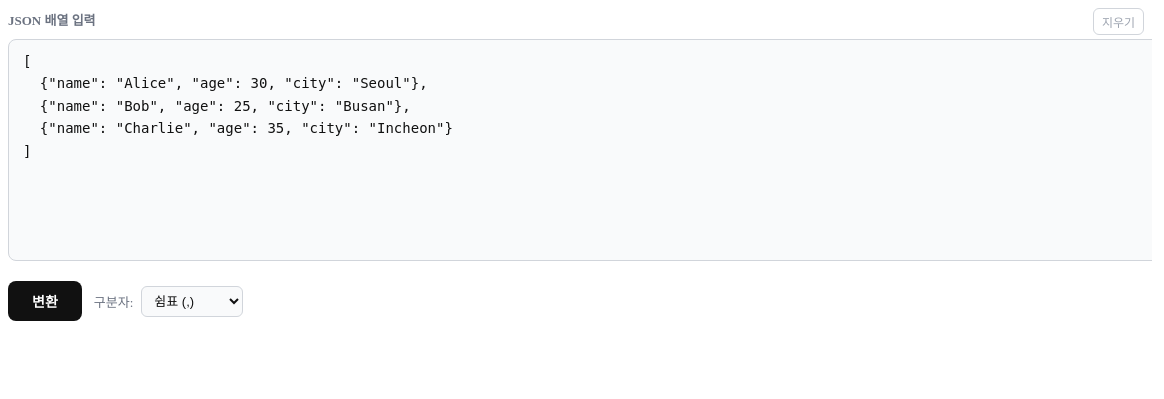
Test: JsonCsvConverter › 잘못된 JSON 입력 시 에러 표시
Replace the text in the text box with "not json". click: {"x": 580, "y": 150}
box: [8,39,1152,261]
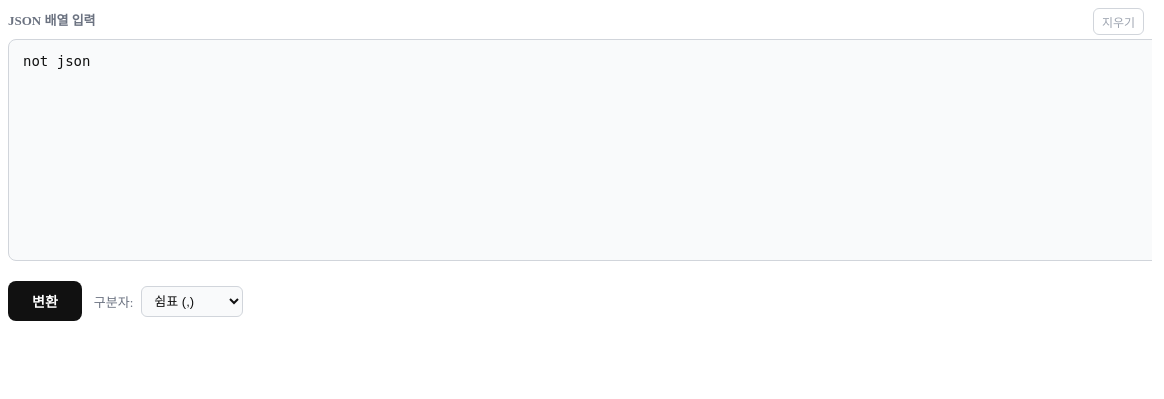
Click the button "변환". click: {"x": 45, "y": 301}
box: [8,281,82,321]
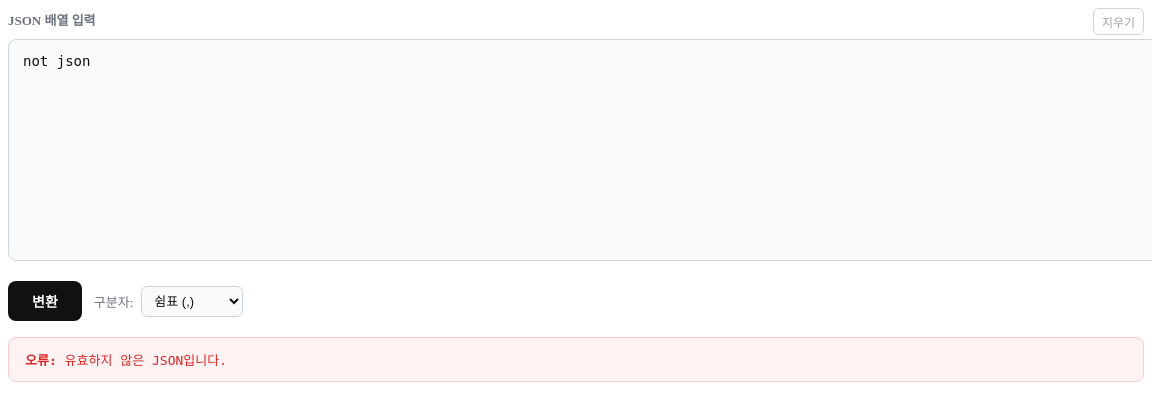
expect the message "오류: 유효하지 않은 JSON입니다." is shown: met, box [8,337,1144,382]
